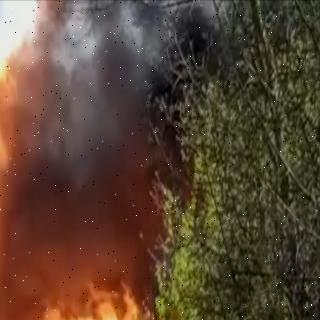smoke: (10, 0, 258, 306)
